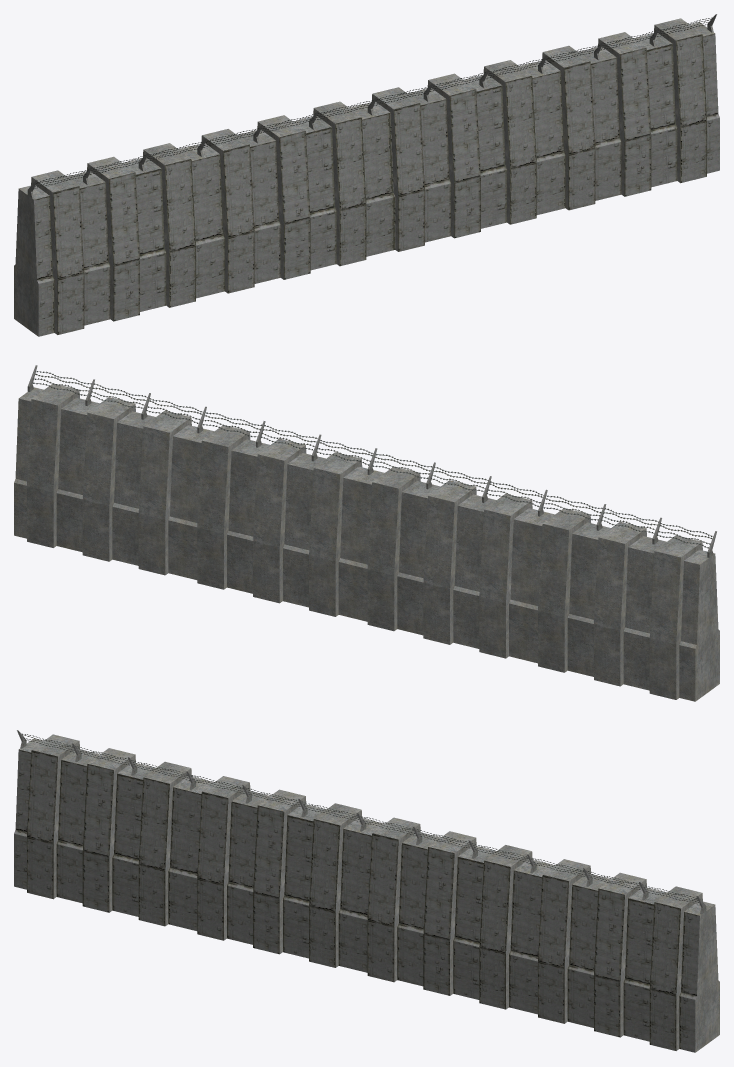
Rendered from mun_all_military_wall_strong_impl_32_s01_l0.fbx.
The picture shows the model from 3 angles, top to bottom: view 1: azimuth 30°, elevation 25°; view 2: azimuth 150°, elevation 25°; view 3: azimuth 330°, elevation 25°; orthographic projection.
Visible parts, largest first — view 1: mesh_node; view 2: mesh_node; view 3: mesh_node.
Boxes of the visible parts, x1,y1,x2,y2 form: mesh_node: [14, 14, 719, 336]; mesh_node: [14, 365, 719, 701]; mesh_node: [14, 730, 719, 1052].
Size of the model in its own units: 32 by 6.93 by 2.5.
